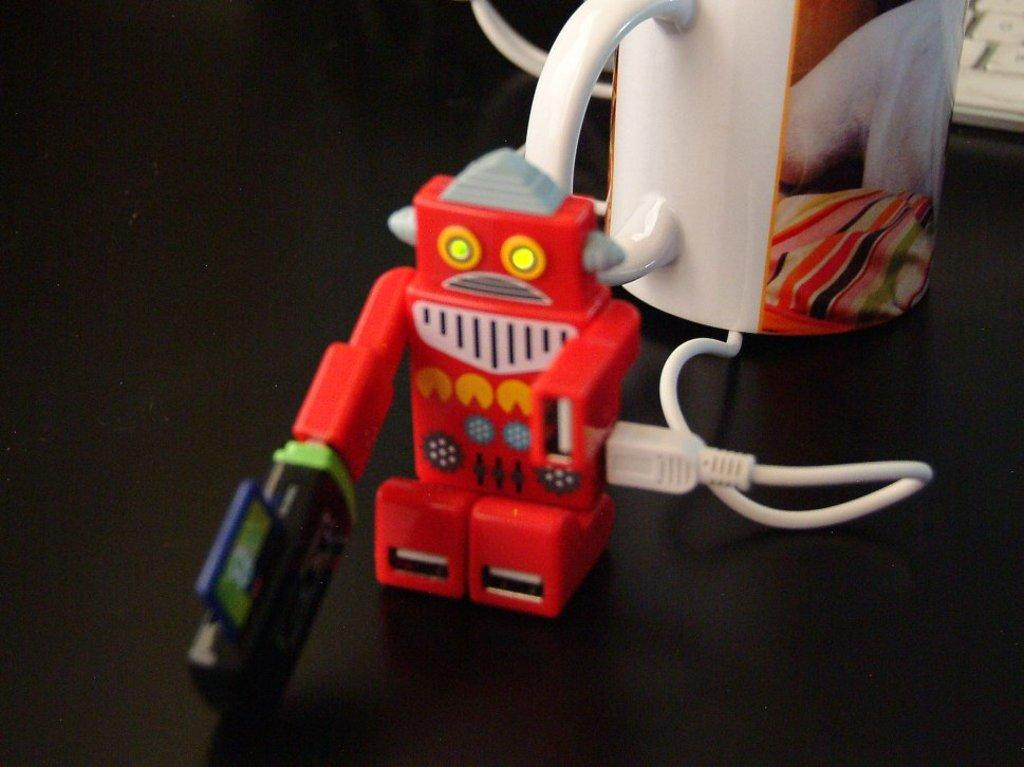Computer-keyboard: (947, 0, 1022, 134)
